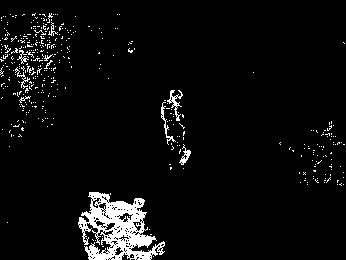person: (160, 90, 190, 168)
